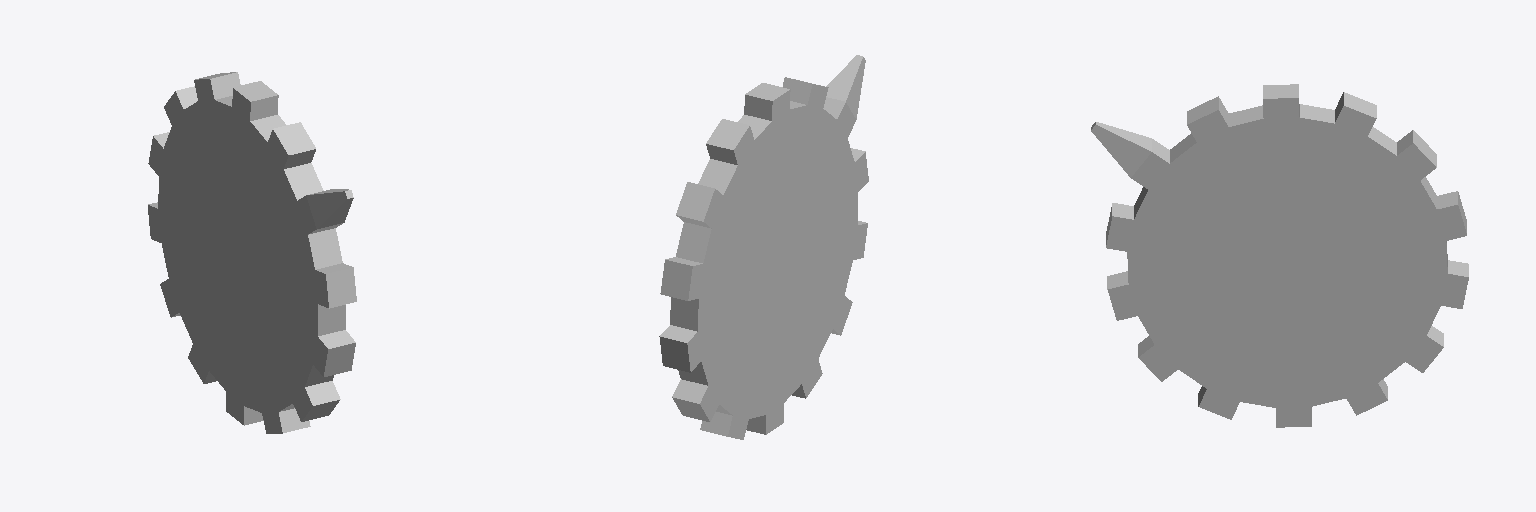
The model's file is gear_000004.obj.
The picture shows the model from 3 angles: view 1: azimuth 30°, elevation 25°; view 2: azimuth 150°, elevation 25°; view 3: azimuth 270°, elevation 25°; orthographic projection.
Parts seen in each view (by area): view 1: gear_Cylinder.001; view 2: gear_Cylinder.001; view 3: gear_Cylinder.001.
Boxes of the visible parts, box(x1,y1,x2,y2) form: gear_Cylinder.001: box(148, 72, 356, 433); gear_Cylinder.001: box(659, 55, 868, 439); gear_Cylinder.001: box(1091, 84, 1468, 427).
Bounding box in the file's own units: 0.1 × 1.13 × 1.18.